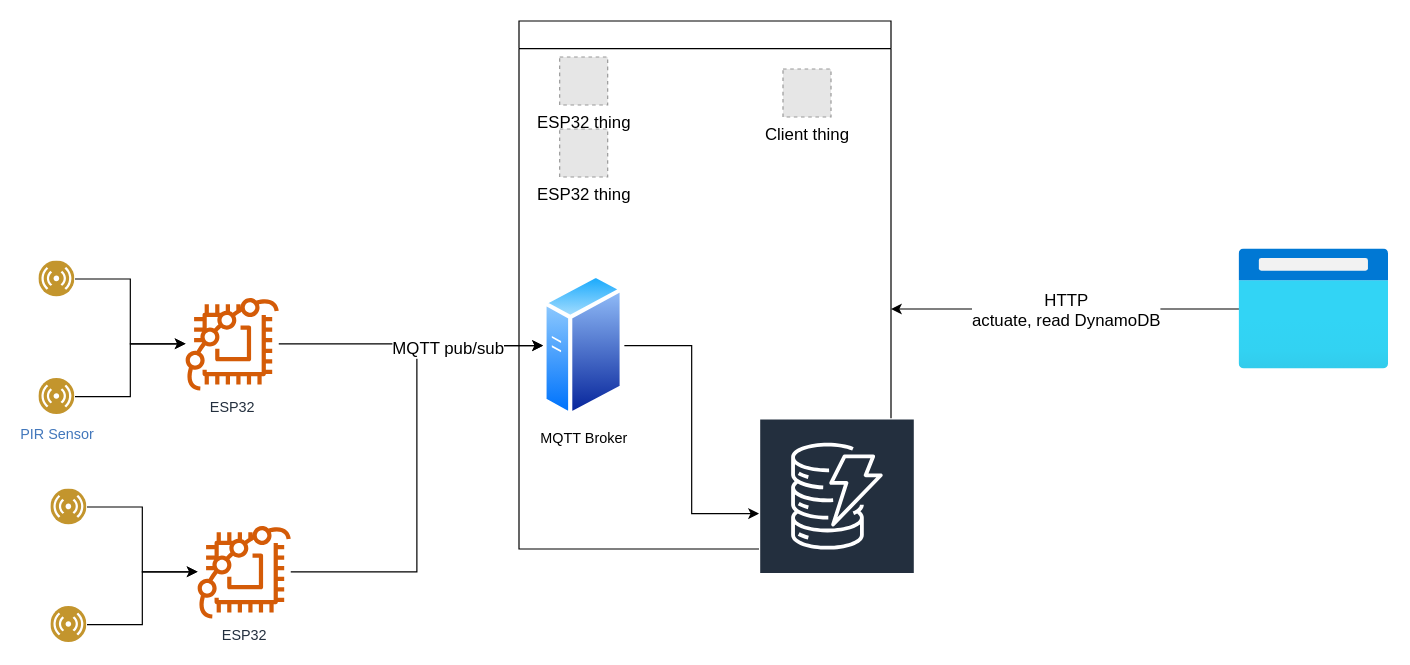
The diagram is 1410 pixels wide and 665 high, and some of its shapes have lost their labels. Grey dashed boxes stand in for pictures. Each missing label, with the box of its shape:
Amazon DynamoDB: (758, 417, 915, 609)
AWS Iot Core: (518, 20, 891, 549)
Client: (1238, 248, 1388, 368)
